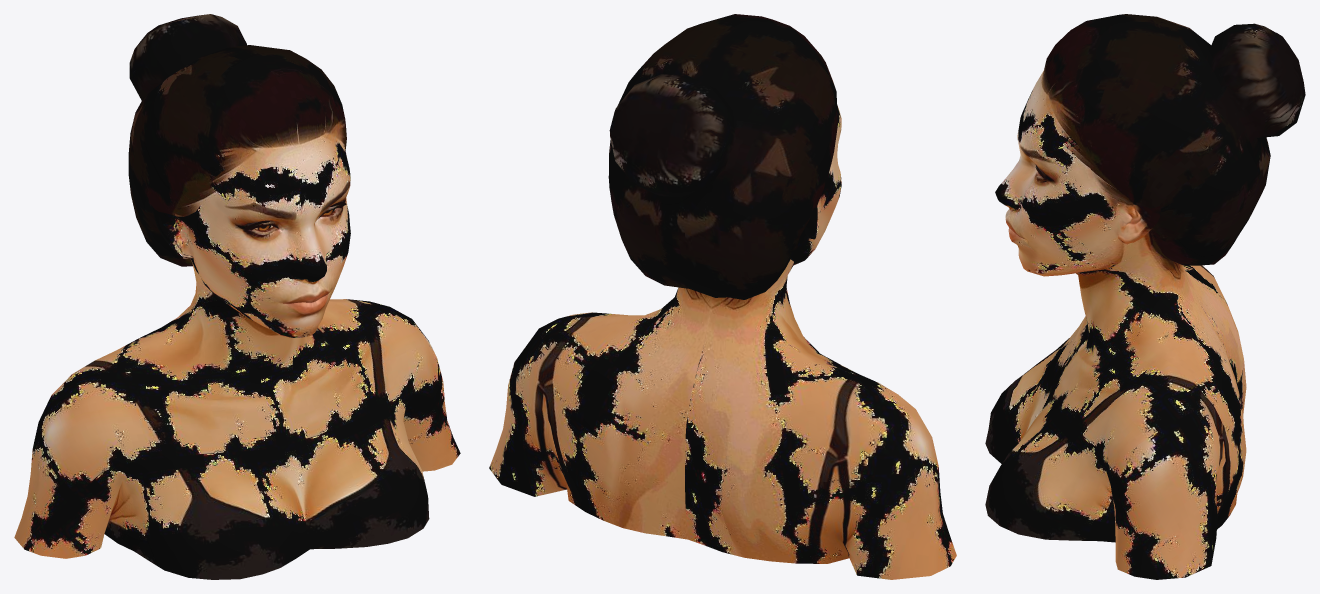
File: agent.glb
3 renders of one model, left to right at view 1: azimuth 30°, elevation 25°; view 2: azimuth 150°, elevation 25°; view 3: azimuth 270°, elevation 25°, orthographic. The views are drawn at different scales.
Visible parts, largest first — view 1: female body outline; view 2: female body outline; view 3: female body outline.
Part boxes in pixels (box(x1,y1,x2,y2)): female body outline: box(14, 14, 460, 579); female body outline: box(489, 14, 956, 579); female body outline: box(985, 14, 1305, 579).
Bounding box in the file's own units: 0.4725 × 0.4774 × 0.305.
Materials: 3 (3 with a texture image).
